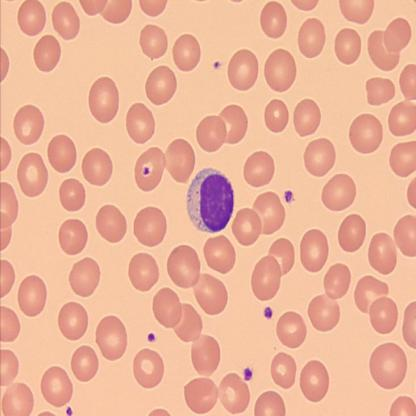Lymphocyte: (187, 168, 235, 234)
